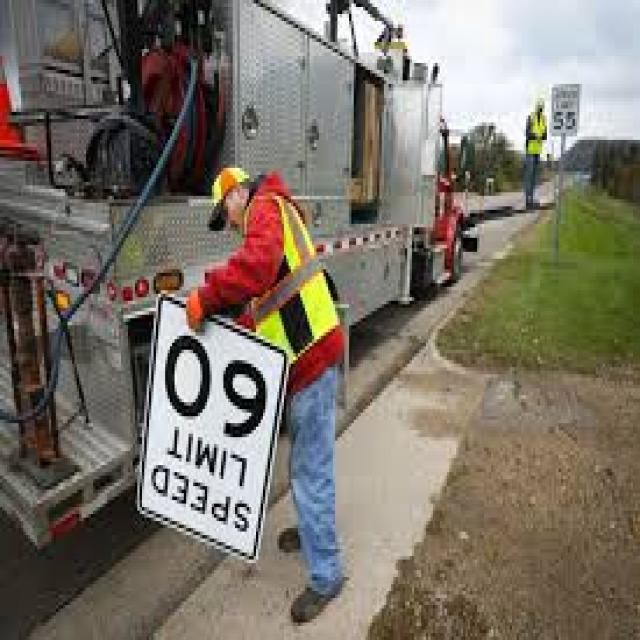speedLimit60: (135, 287, 272, 570)
